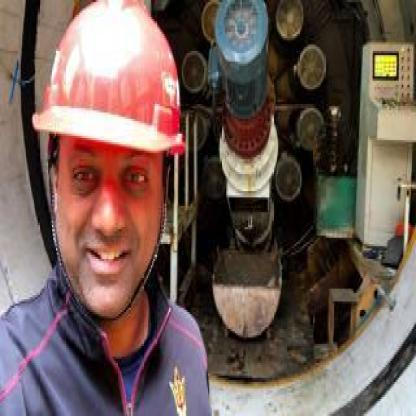capacete: (32, 0, 186, 157)
